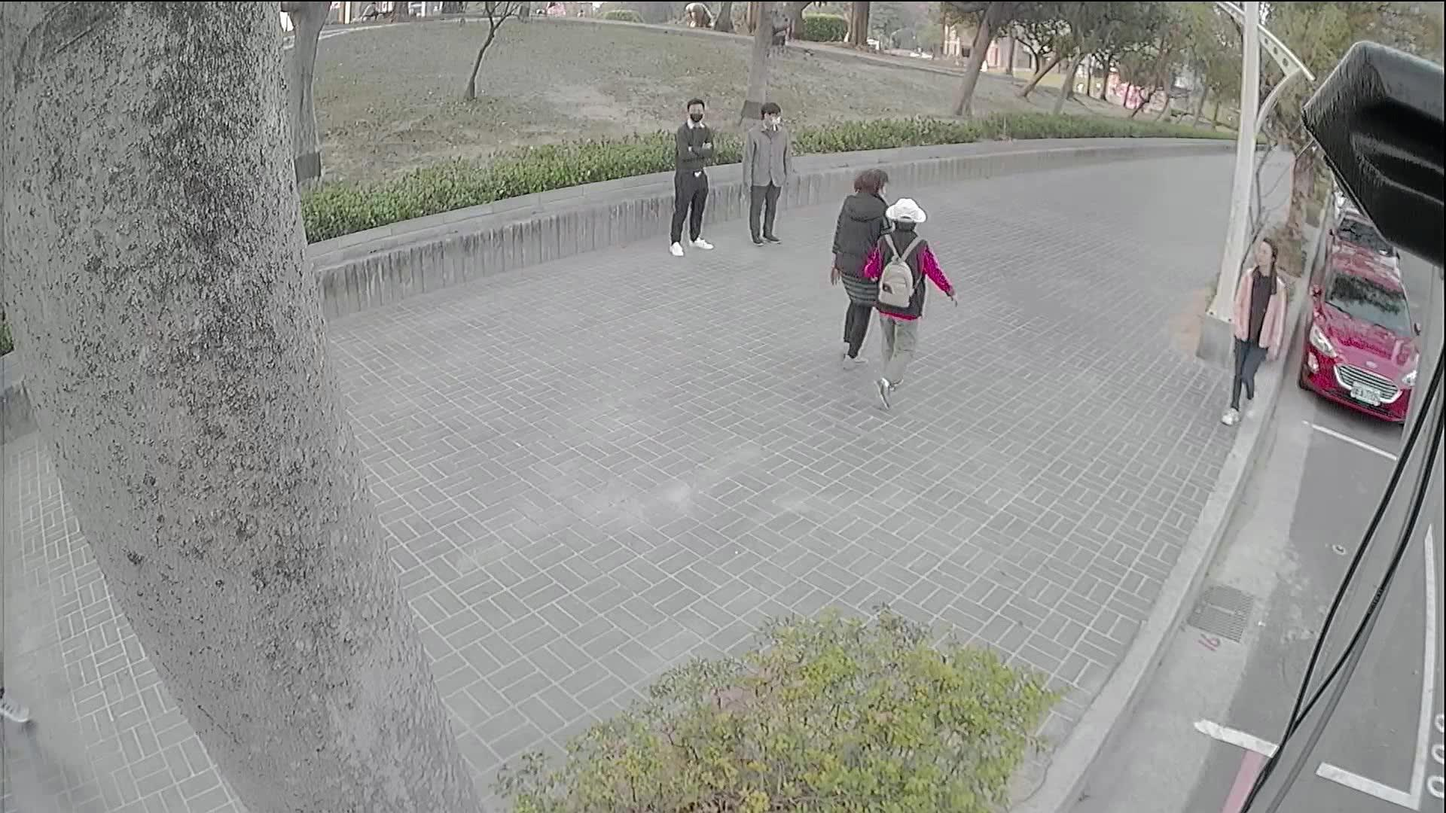person: (858, 199, 931, 410), (822, 175, 882, 365), (1229, 240, 1285, 425), (670, 97, 714, 254), (743, 102, 791, 244)
